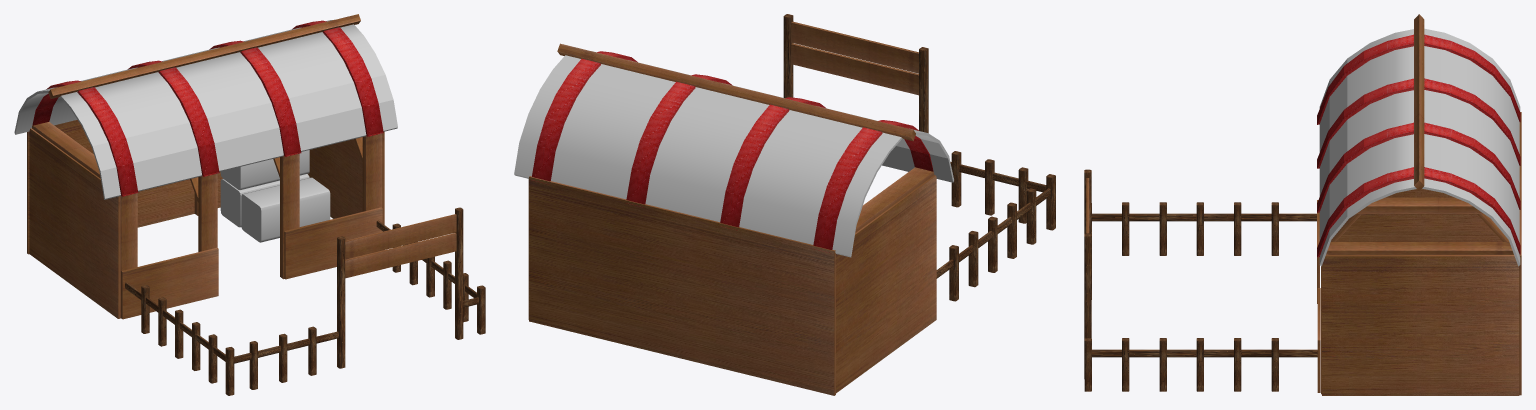
The model's file is Granero.fbx.
3 views of the same model, side by side, from view 1: azimuth 30°, elevation 25°; view 2: azimuth 150°, elevation 25°; view 3: azimuth 270°, elevation 25° (orthographic). The views are drawn at different scales.
Visible parts, largest first — view 1: EstabloXR; view 2: EstabloXR; view 3: EstabloXR.
Part boxes in pixels (x1=…): EstabloXR: x1=14, y1=14, x2=485, y2=395; EstabloXR: x1=514, y1=14, x2=1055, y2=395; EstabloXR: x1=1084, y1=14, x2=1521, y2=395.
Size of the model in its own units: 2.67 by 1.71 by 2.97.
